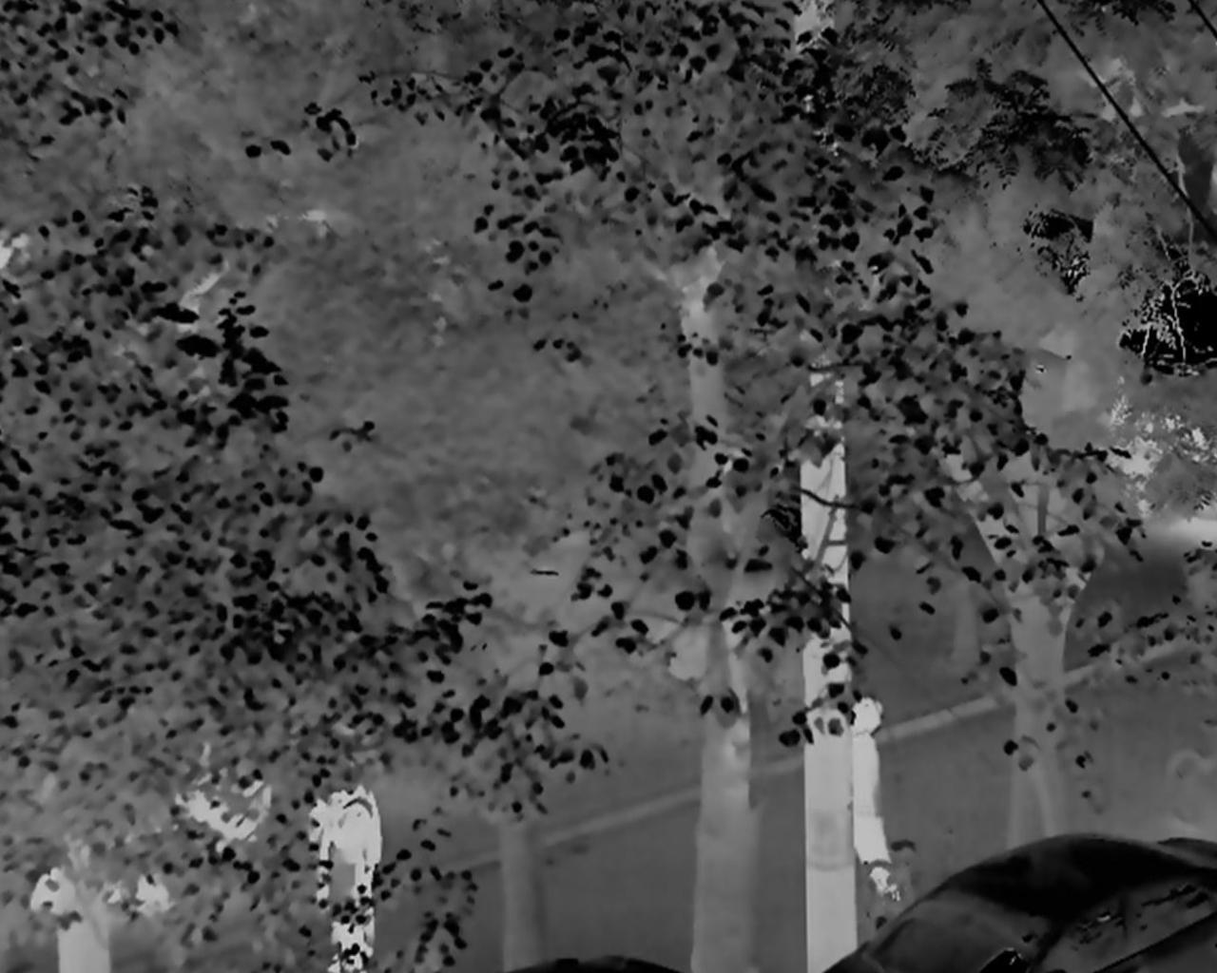person: (310, 775, 382, 961), (848, 694, 901, 904)
